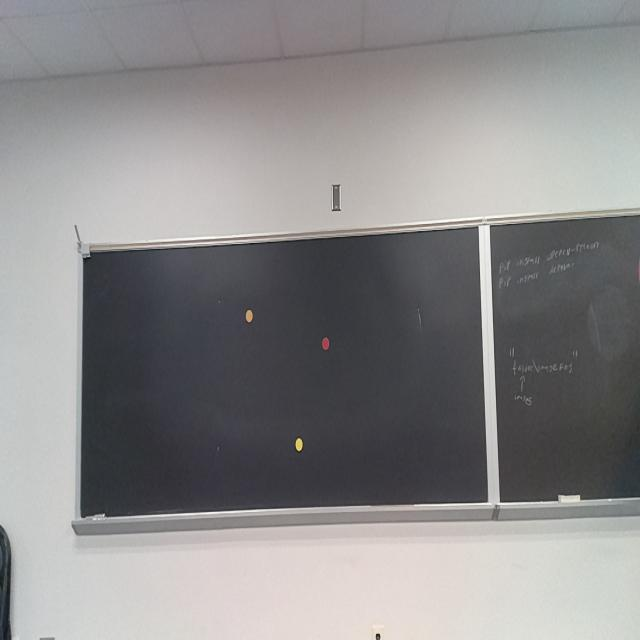Orange: (246, 309, 253, 324)
Red: (322, 336, 329, 351)
Yellow: (294, 436, 304, 452)
